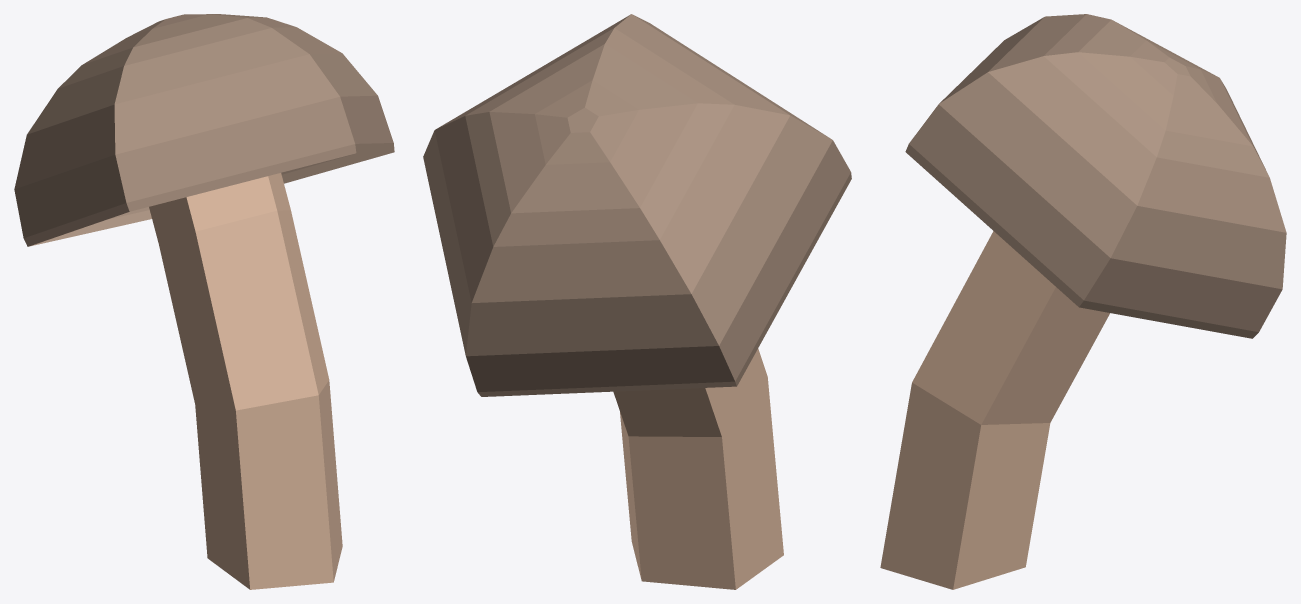
Rendered from Mushroom_07.fbx.
The picture shows the model from 3 angles, left to right: view 1: azimuth 30°, elevation 25°; view 2: azimuth 150°, elevation 25°; view 3: azimuth 270°, elevation 25°; orthographic projection. The views are drawn at different scales.
Parts seen in each view (by area): view 1: Mushroom_07; view 2: Mushroom_07; view 3: Mushroom_07.
Part boxes in pixels (<box>): Mushroom_07: <box>14,14,394,589</box>; Mushroom_07: <box>423,14,851,589</box>; Mushroom_07: <box>880,14,1286,589</box>.
Size of the model in its own units: 58.69 by 86.92 by 61.55.
